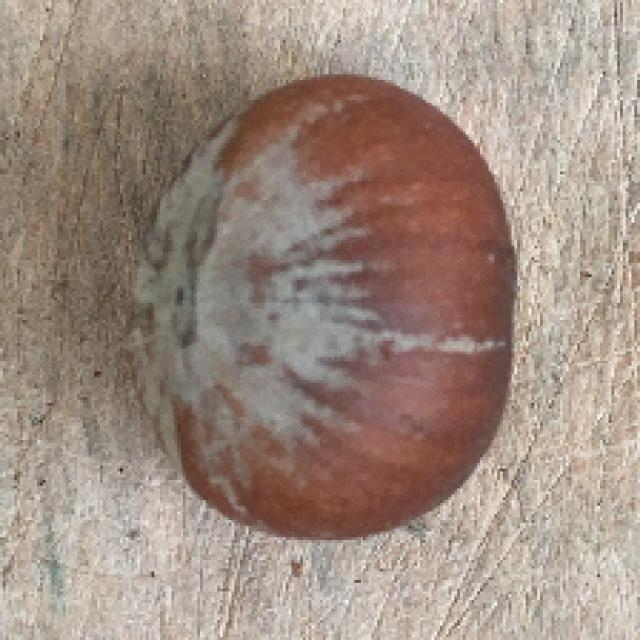damagedHazelnut: (126, 74, 518, 546)
